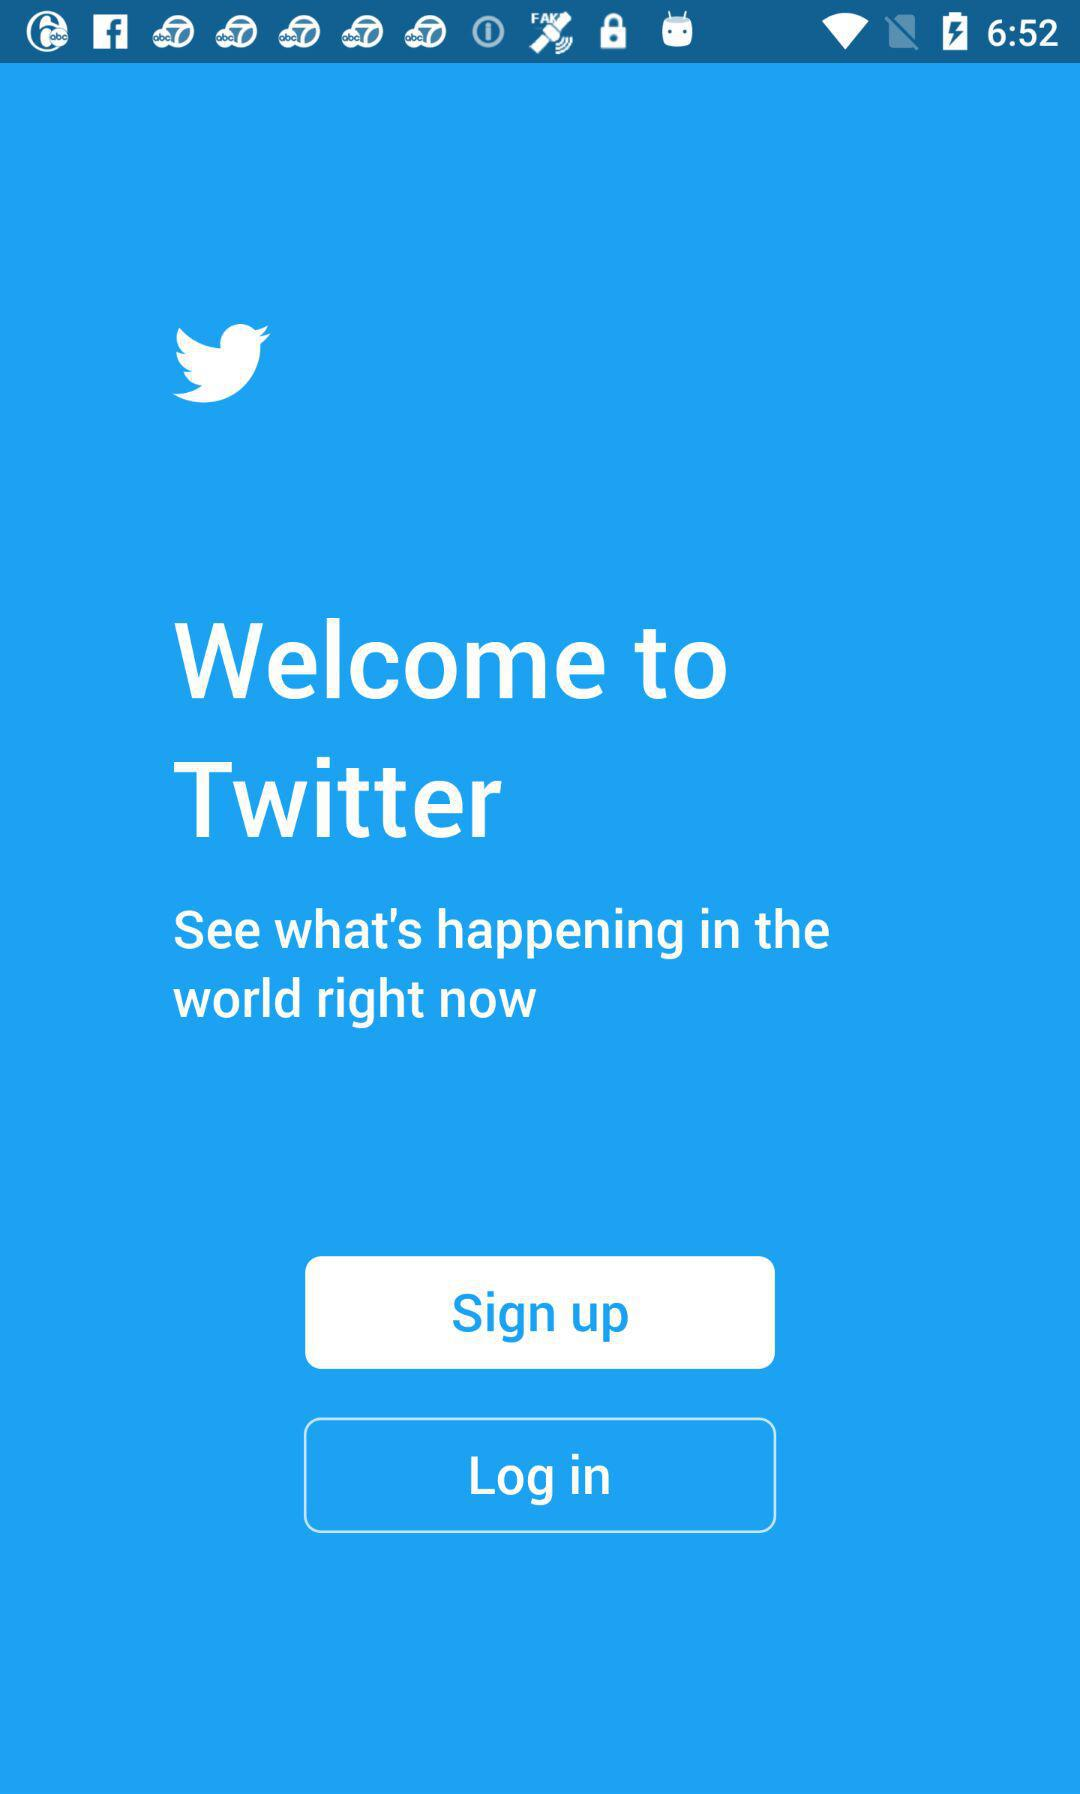Icon: (172, 323, 273, 405)
Text: (172, 616, 728, 841), (172, 906, 831, 1030)
TextButton: (304, 1417, 776, 1534), (305, 1255, 776, 1370)
UpperTaskBar: (1, 1, 1080, 64)
